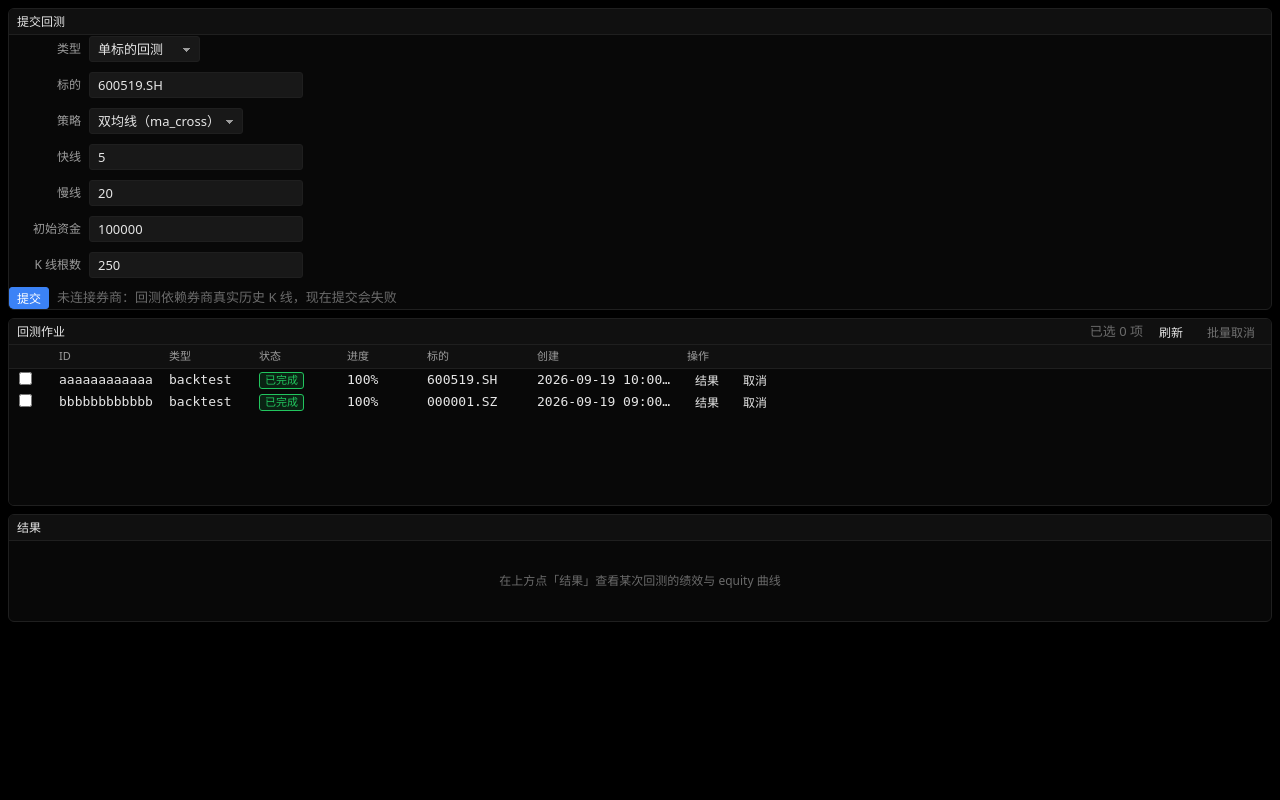
it: 策略回测页 › 取消已结束的作业：不能谎报「已取消」
Expected: the text "600519.SH" is shown, [427,372,498,387]
Click the button "取消" in the row of "aaaaaaaaaaaa": click(755, 380) [735,368,775,390]
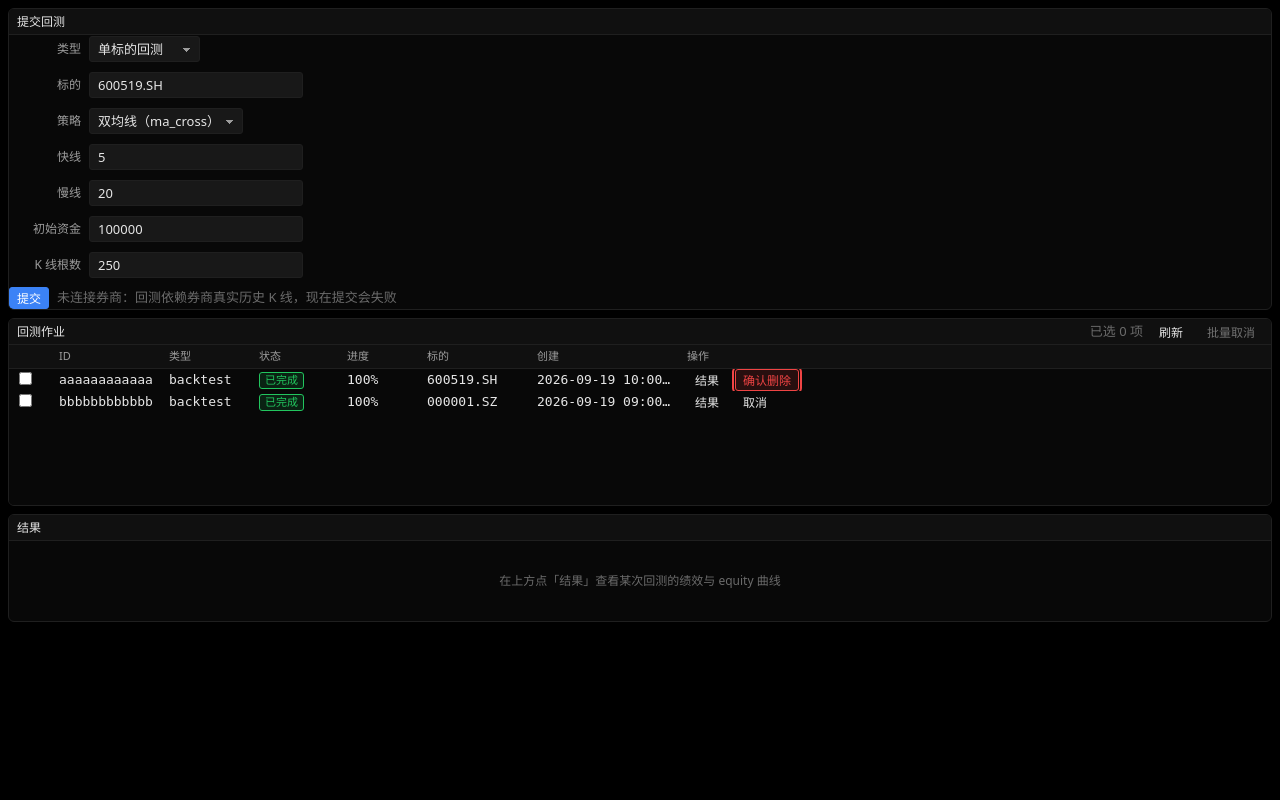
Expected: the button "确认删除" is shown
Click the button "确认删除": click(767, 380) [735,368,799,390]
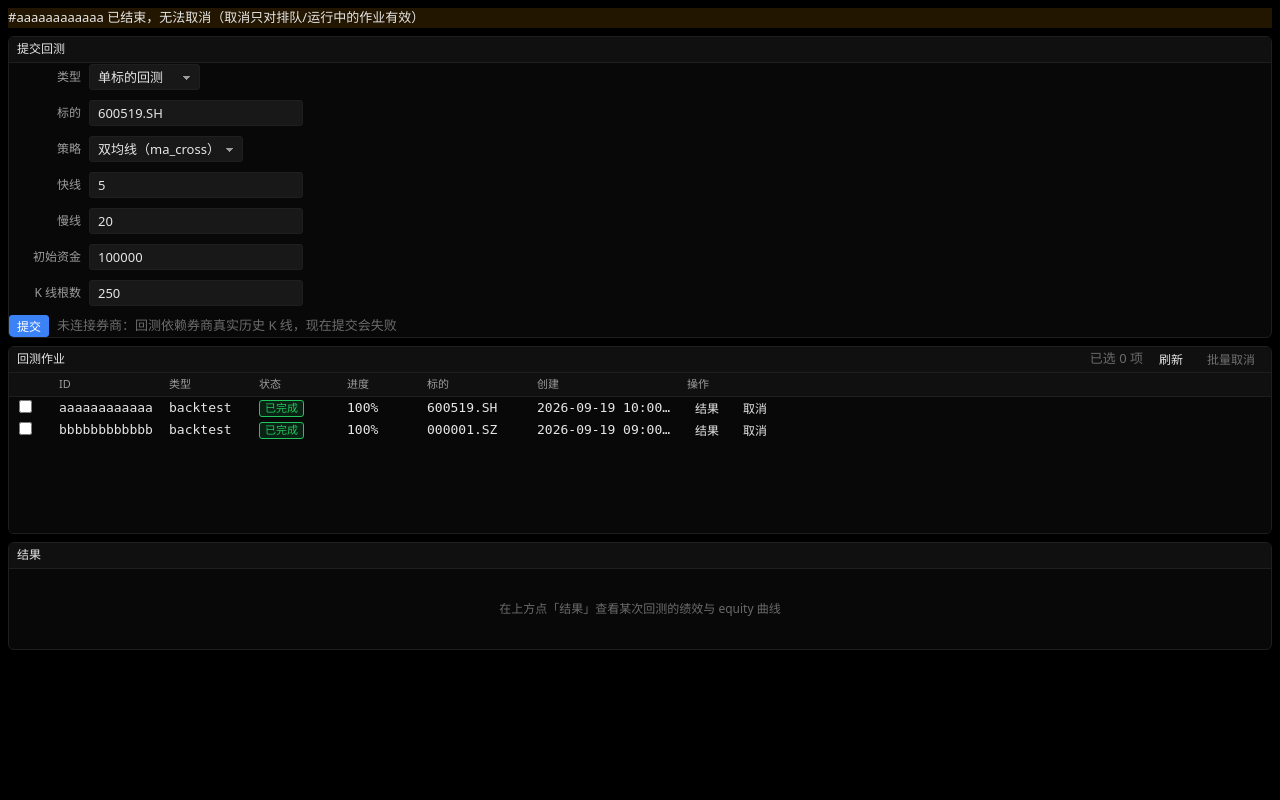
Expected: the text "#aaaaaaaaaaaa 已结束，无法取消（取消只对排队/运行中的作业有效）" is shown, [8,8,1272,28]
